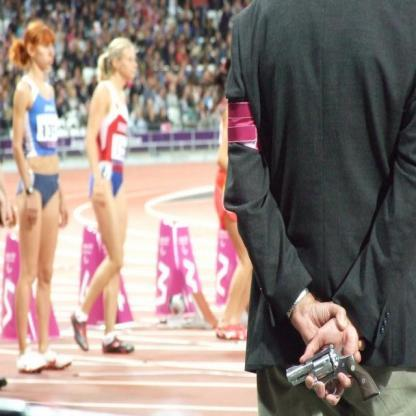weapon: (284, 344, 381, 399)
